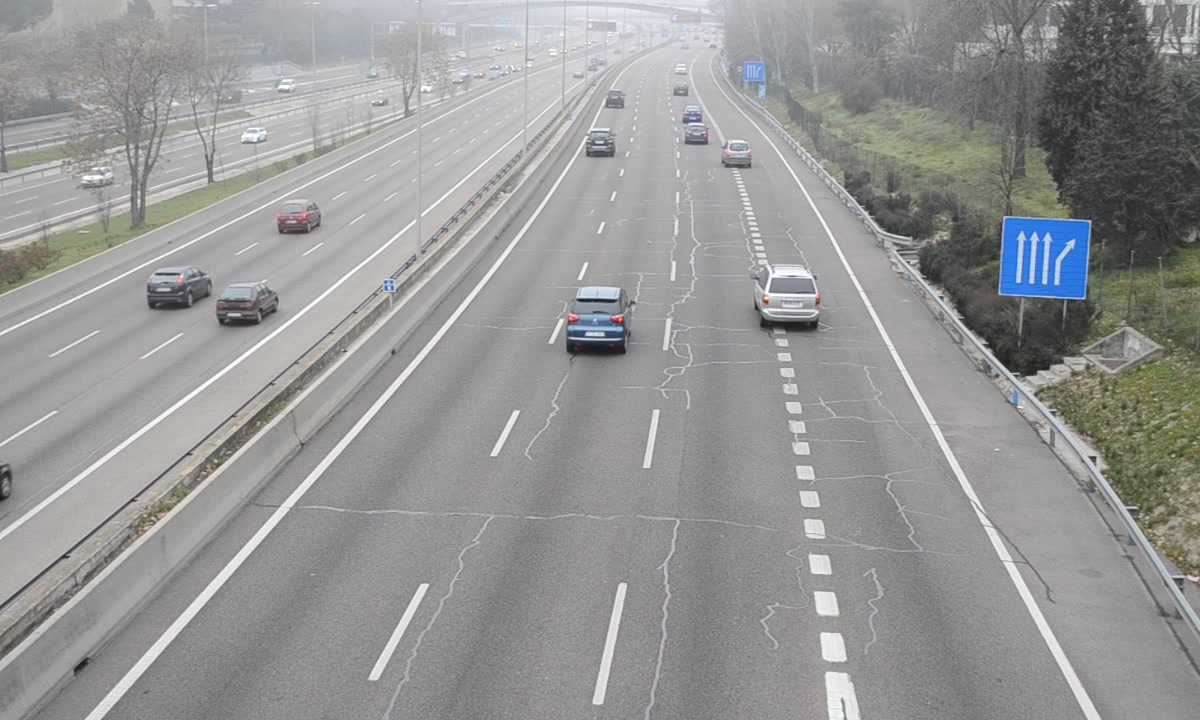car: (565, 286, 630, 349), (757, 264, 820, 324), (584, 127, 616, 159), (722, 138, 751, 168), (683, 122, 710, 145)
